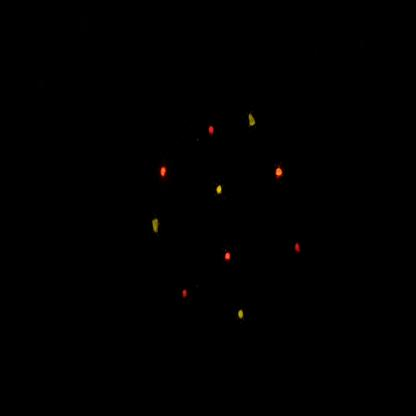PE: (214, 175, 228, 204), (234, 304, 249, 329)
PET: (200, 114, 219, 153), (175, 277, 195, 308), (292, 233, 305, 260)
PP: (149, 208, 164, 239), (246, 106, 261, 137)
PVC: (272, 159, 288, 190), (156, 160, 170, 192), (222, 240, 237, 268)
